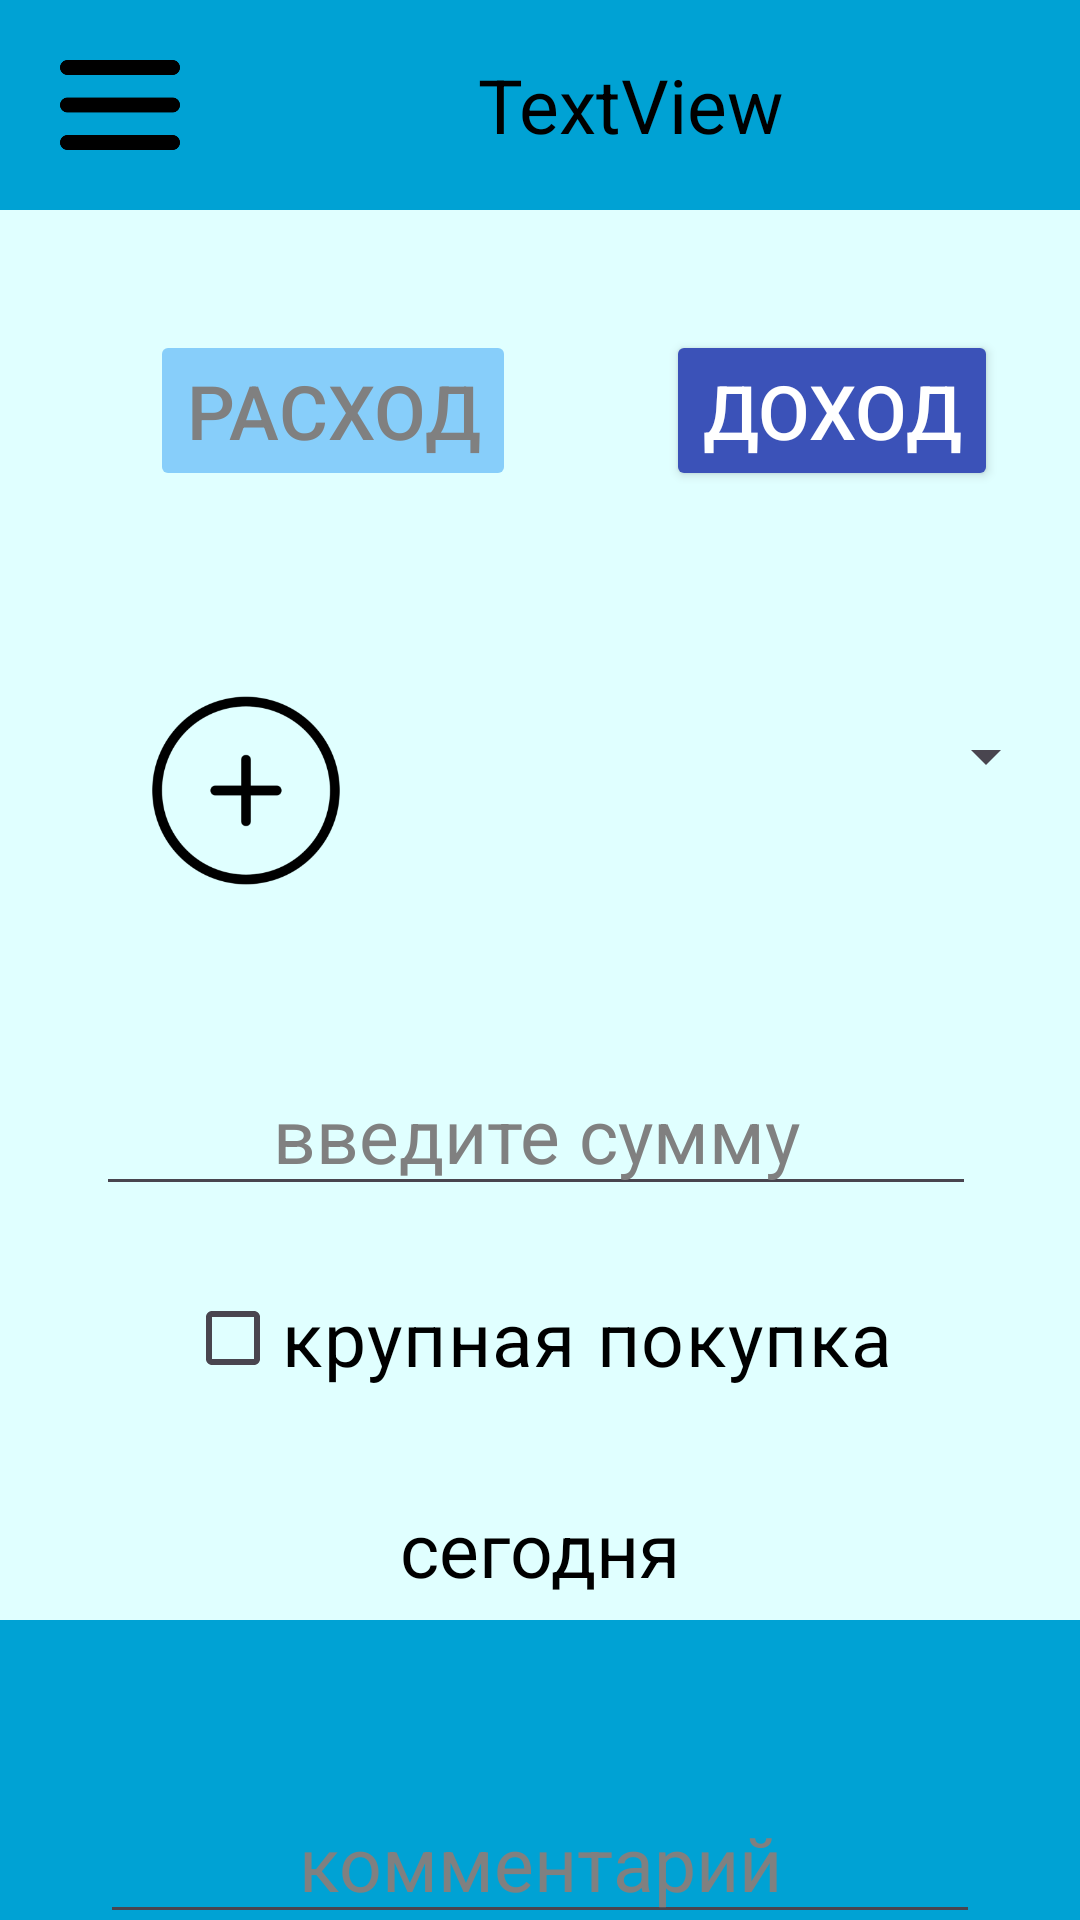

Icon bounding boxes for this 1080 × 1920 phone screenshot, format (x1, y1, x2, y2):
menu: (60, 60, 180, 150)
plus: (152, 696, 340, 885)
